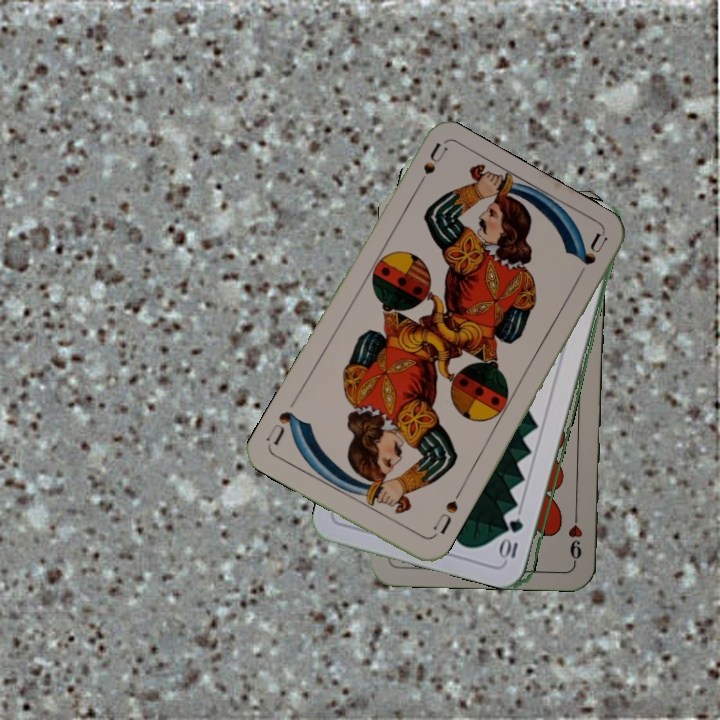G10: (500, 514, 526, 561)
H9: (564, 506, 585, 565)
SU: (409, 140, 450, 196), (429, 496, 461, 537)
